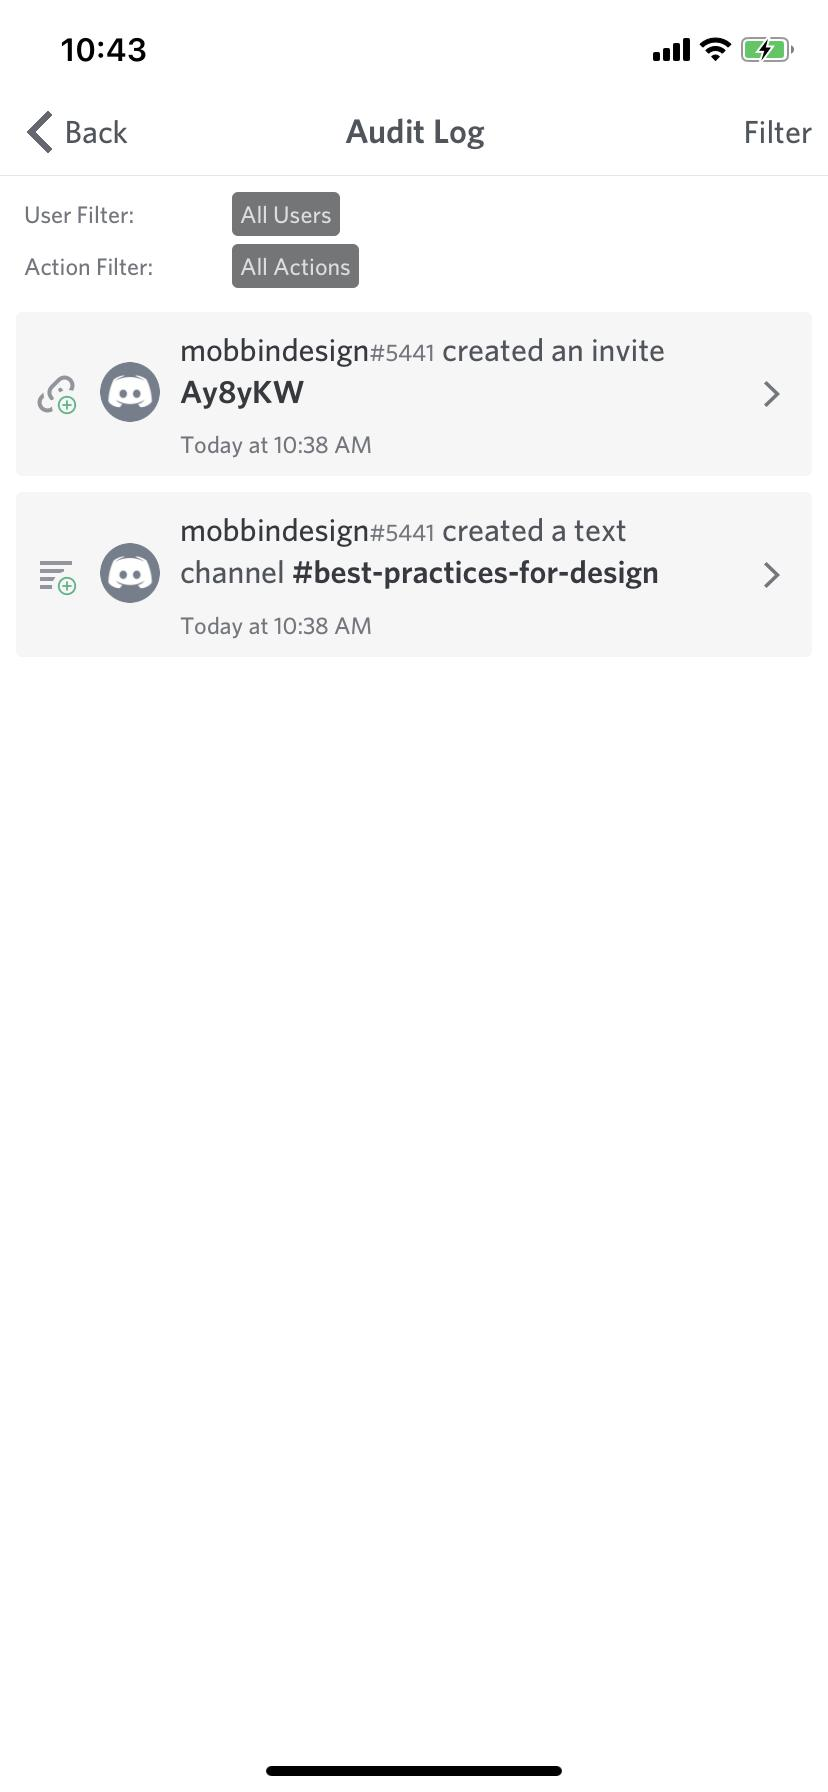Buttons: (1, 82, 150, 174), (718, 80, 828, 168)
